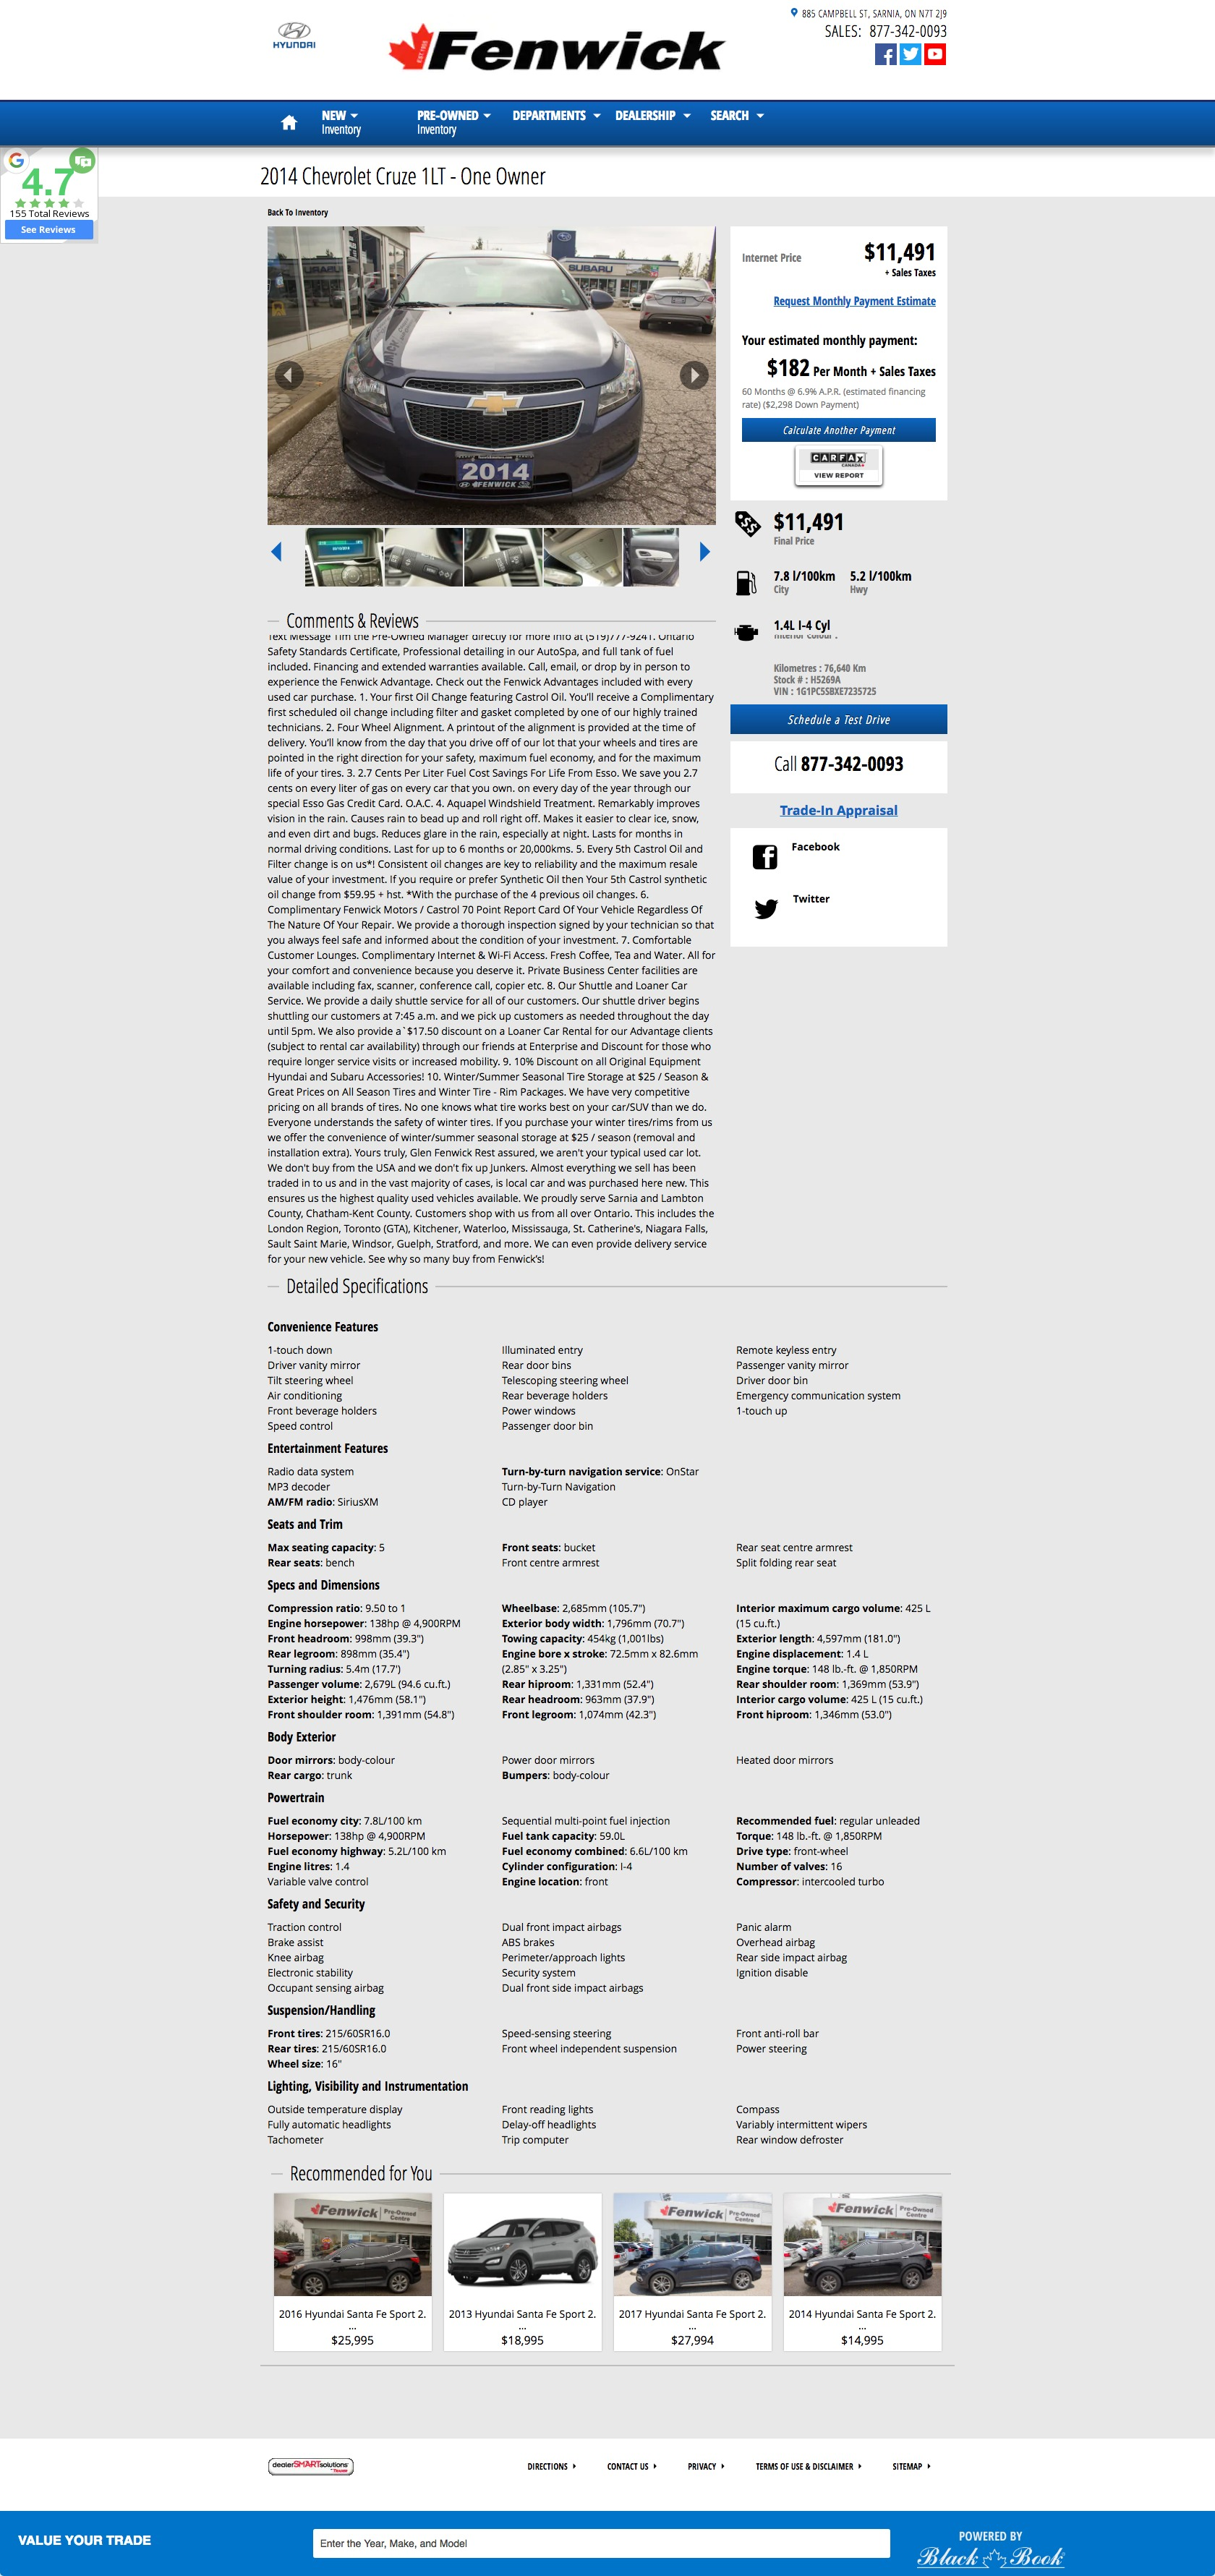car: (699, 542, 709, 562)
